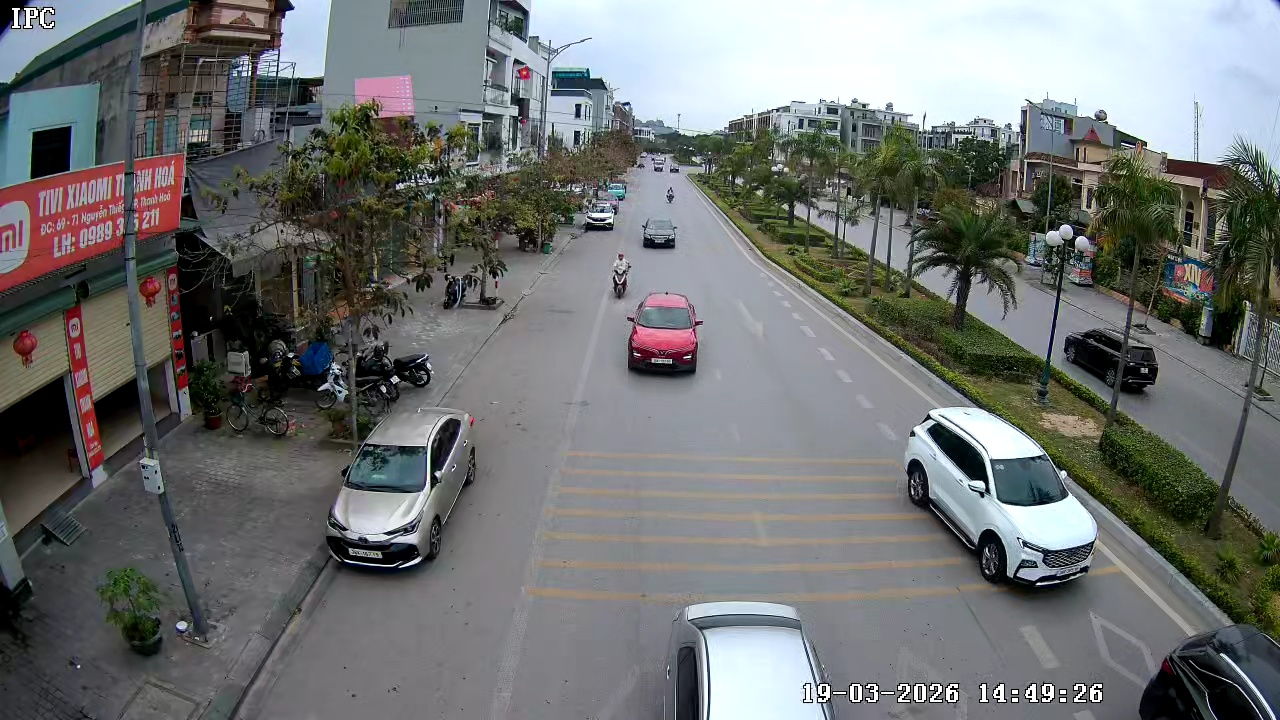bus: (548, 56, 606, 94)
car: (905, 405, 1099, 586), (325, 405, 478, 572), (658, 597, 837, 719), (1137, 622, 1279, 719), (1061, 300, 1160, 394), (625, 291, 704, 375), (640, 214, 679, 249), (583, 197, 620, 232)
motorbike: (379, 322, 434, 387), (609, 250, 632, 300), (664, 184, 680, 206)
